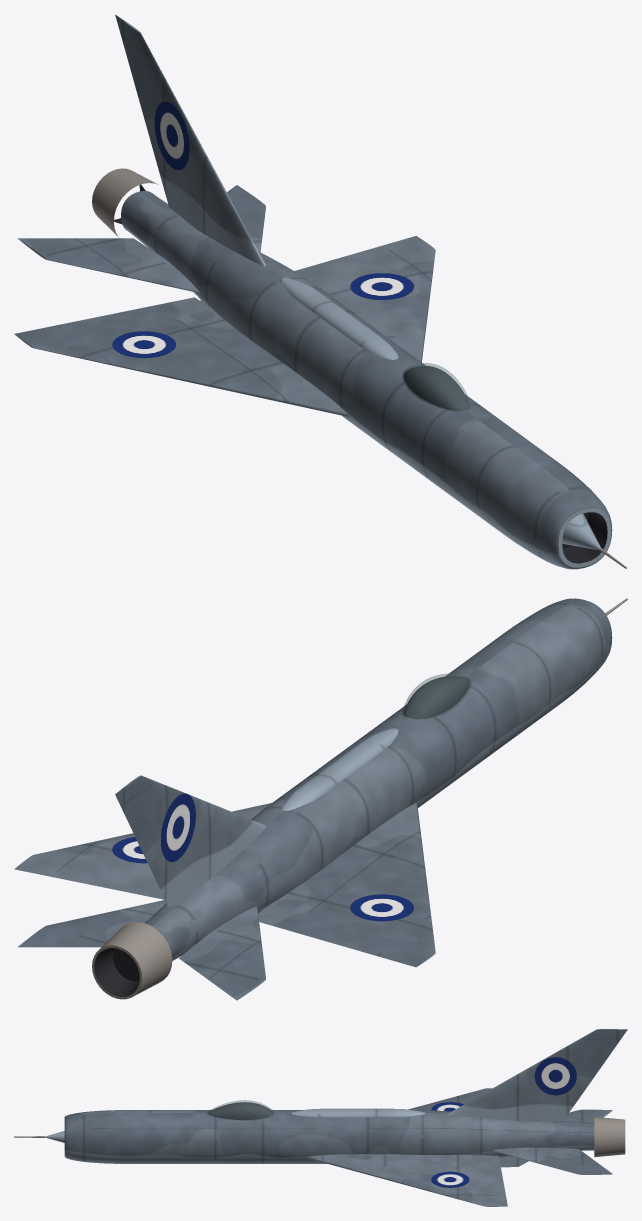
Rendered from 46_FIN_MiG21bis.glb.
3 renders of one model, top to bottom at view 1: azimuth 30°, elevation 25°; view 2: azimuth 150°, elevation 25°; view 3: azimuth 270°, elevation 25°, orthographic. The views are drawn at different scales.
Parts seen in each view (by area): view 1: Fuselage, Wing0_R, Fin2, Wing0_L, Htail1_R, Spine, Canopy, Cockpit, Nozzle, Decal_Fin_a, Intake, Decal_Wing_U_L (+3 smaller); view 2: Fuselage, Wing0_R, Fin2, Wing0_L, Htail1_R, Nozzle, Htail1_L, Spine, Canopy, Cockpit, Decal_Fin_a, Decal_Wing_U_R (+1 smaller); view 3: Fuselage, Fin2, Wing0_L, Htail1_L, Decal_Fin_b, Nozzle, Spine, Canopy, Cockpit, Htail1_R, Decal_Wing_U_L, Wing0_R.
Boxes of the visible parts, x1,y1,x2,y2 form: Fuselage: (121,191,612,569); Wing0_R: (14,297,349,416); Fin2: (115,14,265,266); Wing0_L: (294,236,435,362); Htail1_R: (18,238,199,292); Spine: (282,277,398,359); Canopy: (402,363,472,412); Cockpit: (403,366,470,411); Nozzle: (92,168,158,237); Decal_Fin_a: (154,101,189,169); Intake: (558,508,611,567); Decal_Wing_U_L: (350,273,413,299); Fuselage: (145,598,612,960); Wing0_R: (258,803,435,967); Fin2: (115,775,265,907); Wing0_L: (14,803,271,899); Htail1_R: (179,906,265,1000); Nozzle: (92,922,172,999); Htail1_L: (18,900,166,947); Spine: (282,728,398,810); Canopy: (402,674,472,719); Cockpit: (403,676,470,719); Decal_Fin_a: (161,793,195,861); Decal_Wing_U_R: (350,894,413,921); Fuselage: (64,1110,594,1163); Fin2: (447,1029,627,1121); Wing0_L: (306,1154,507,1206); Htail1_L: (492,1147,612,1174); Decal_Fin_b: (534,1057,576,1095); Nozzle: (594,1117,625,1157); Spine: (291,1108,424,1117); Canopy: (205,1100,274,1120); Cockpit: (207,1102,273,1120); Htail1_R: (554,1109,612,1123); Decal_Wing_U_L: (431,1171,469,1187); Wing0_R: (408,1088,491,1110).
Bounding box in the file's own units: 7.15 × 3.9 × 15.76.
Materials: 6 (2 with a texture image).
